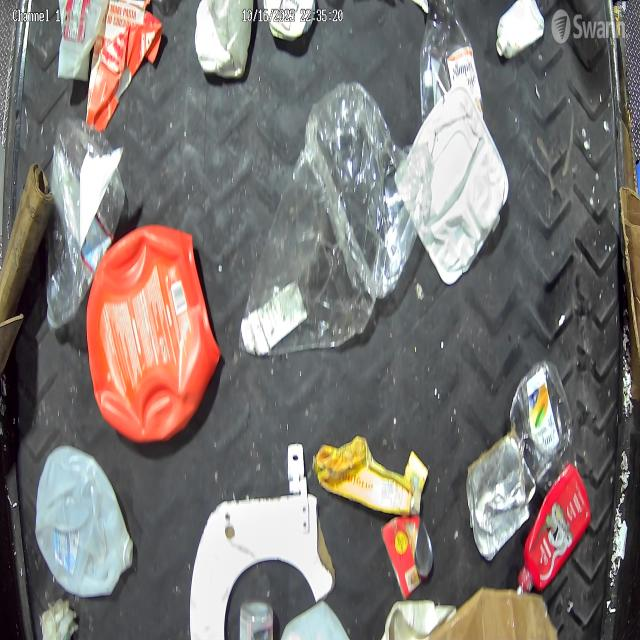can: (382, 514, 433, 598)
milk_jug: (32, 447, 136, 599)
non_white_jug: (86, 224, 221, 444)
plastic_bottle: (46, 117, 125, 339), (419, 2, 480, 117), (238, 599, 275, 640)
